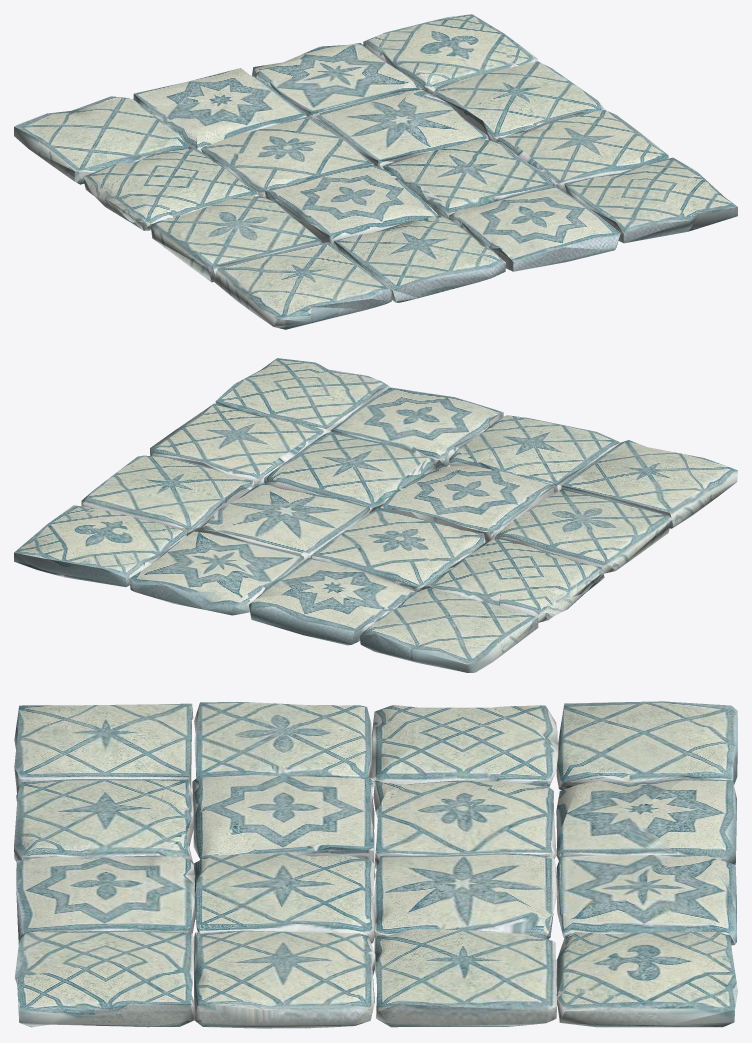
File: blk_city_floor.glb
3 views of the same model, one above another, from view 1: azimuth 30°, elevation 25°; view 2: azimuth 150°, elevation 25°; view 3: azimuth 270°, elevation 25° (orthographic). The views are drawn at different scales.
Size of the model in its own units: 0.957 by 0.0474 by 0.9521.
1 material, 1 textured.
